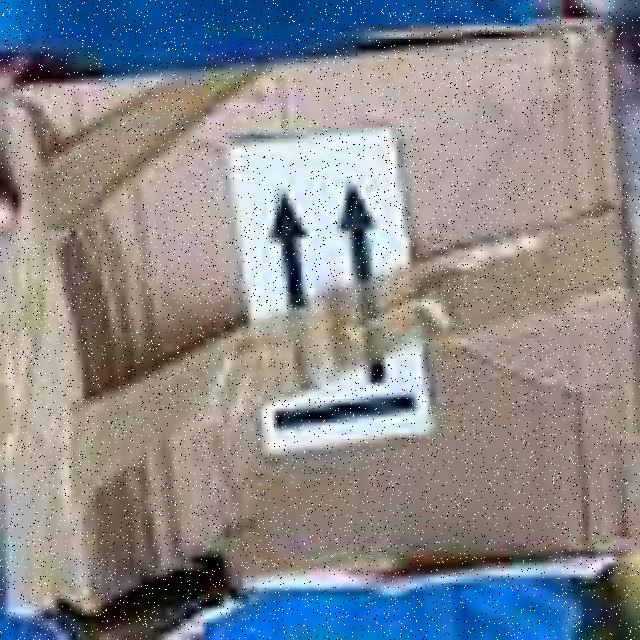defect: (6, 18, 629, 620)
